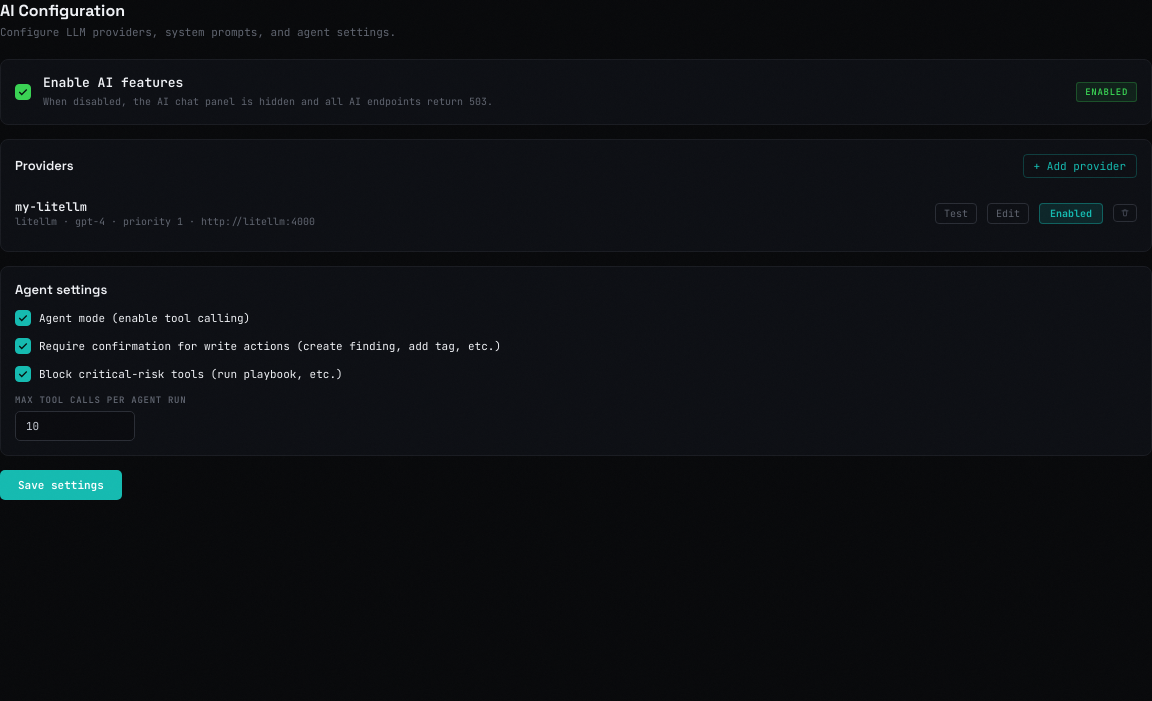
AISection — edit provider model fetch › surfaces the backend error instead of silently showing nothing
Click the button "Edit". click: click(1008, 213)
box: [987,202,1029,224]
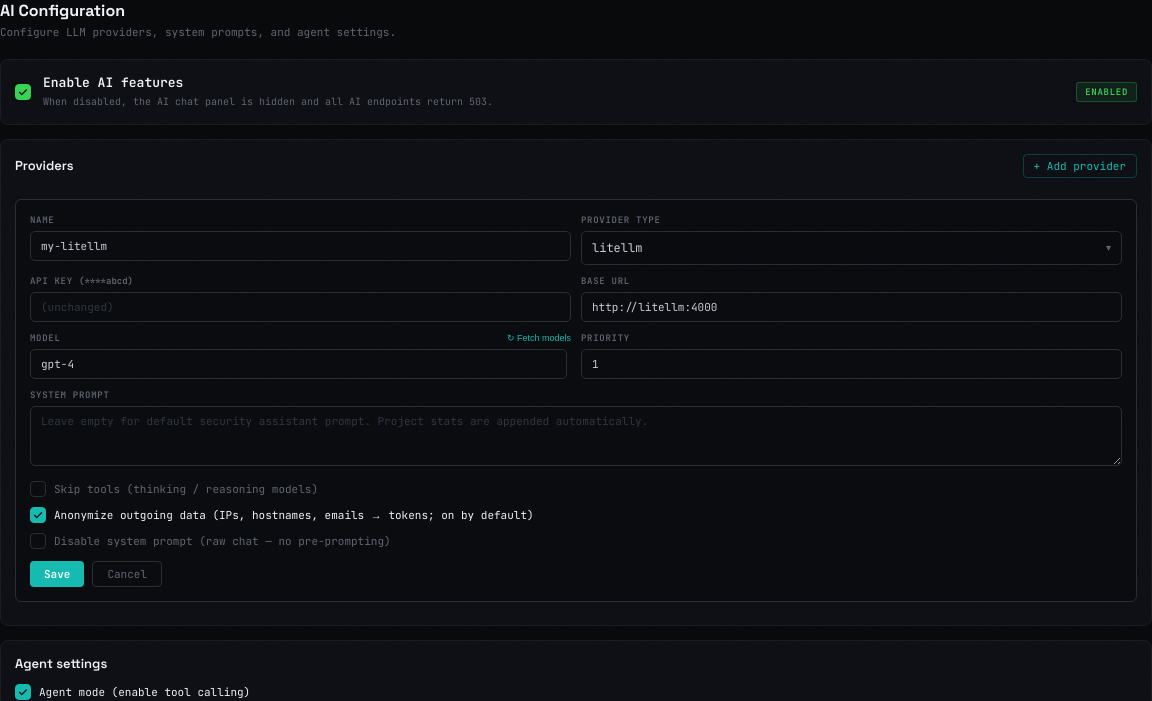
Click the button "↻ Fetch models". click: click(539, 338)
box: [507,332,571,344]
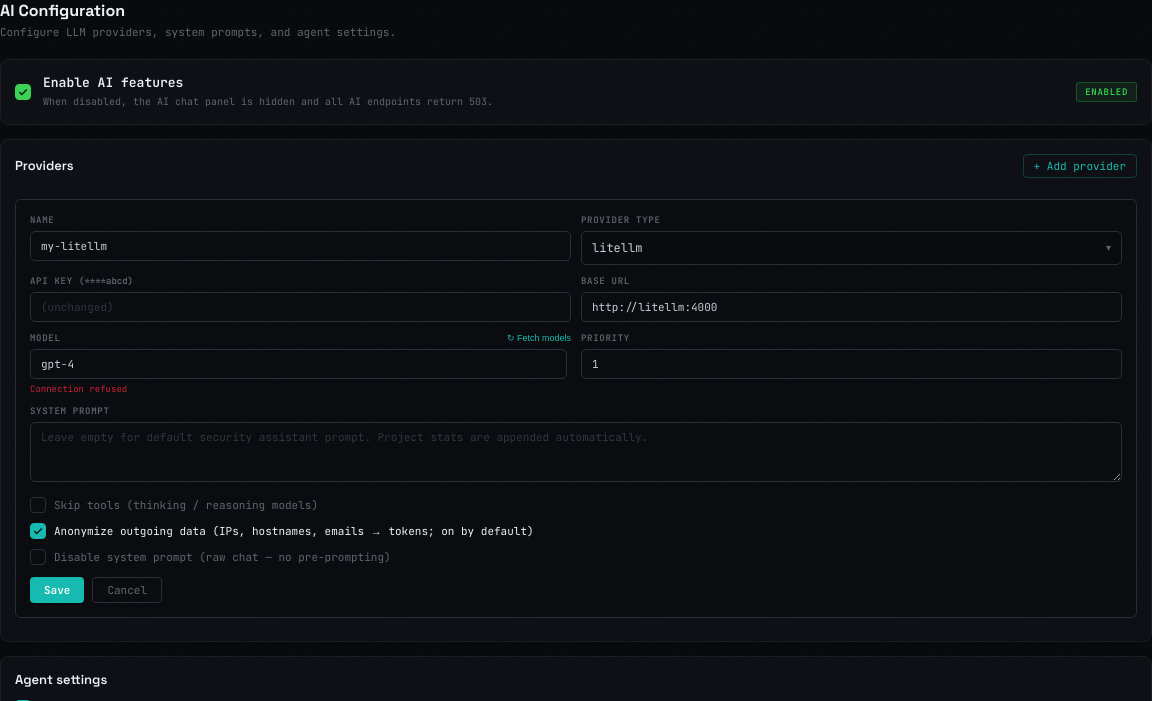
Result: the text "Connection refused" is shown at [30,382,127,394]
